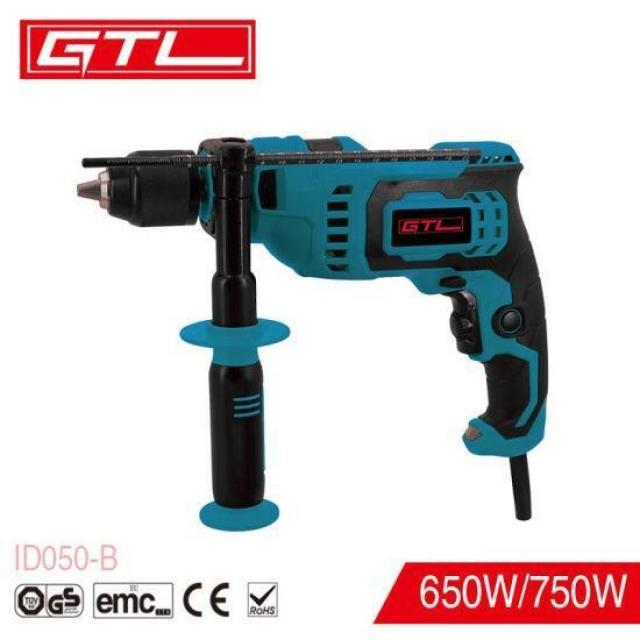drill: (75, 134, 550, 534)
